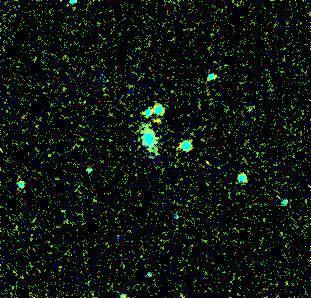star: (145, 103, 175, 133)
